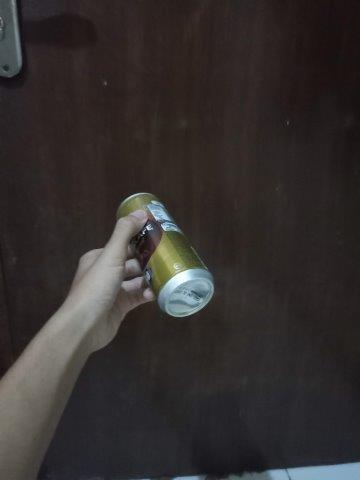kaleng: (117, 192, 214, 318)
